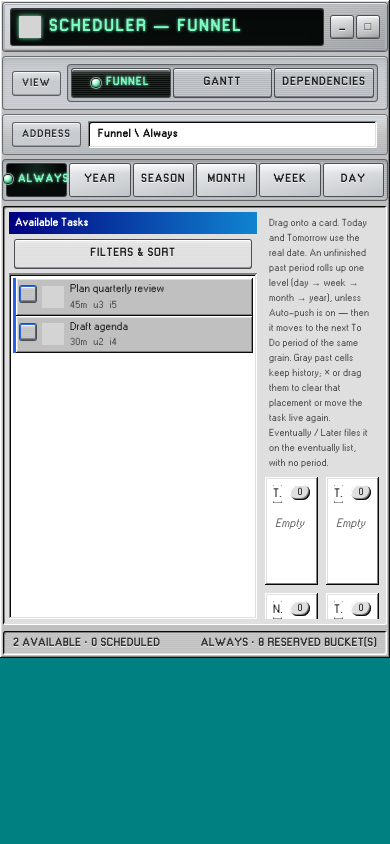
Test case: EnhancedScheduler › Mark complete finishes the selection without leaving checks
Step 1. Click the checkbox next to "Plan quarterly review" → point(28, 294), box x1=20 y1=286 x2=36 y2=302
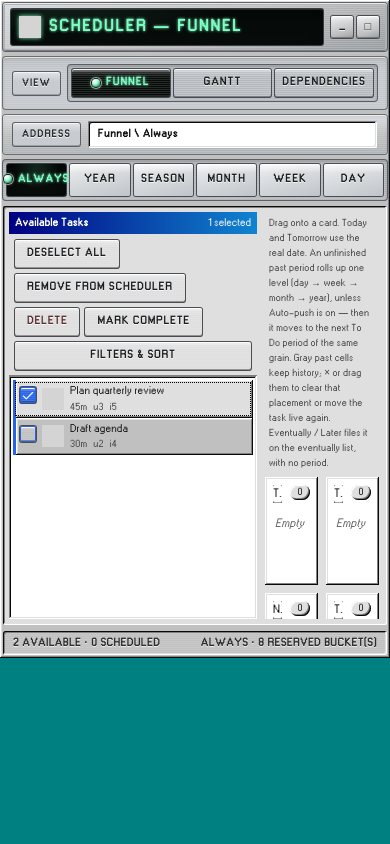
Step 2. Click the button "Mark complete" → point(144, 322), box x1=86 y1=308 x2=202 y2=336
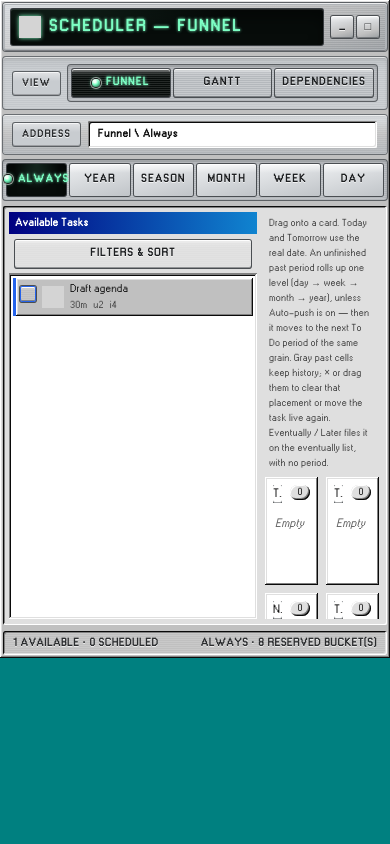
Result: the text "1 selected" is gone
Result: the text "Plan quarterly review" is gone
